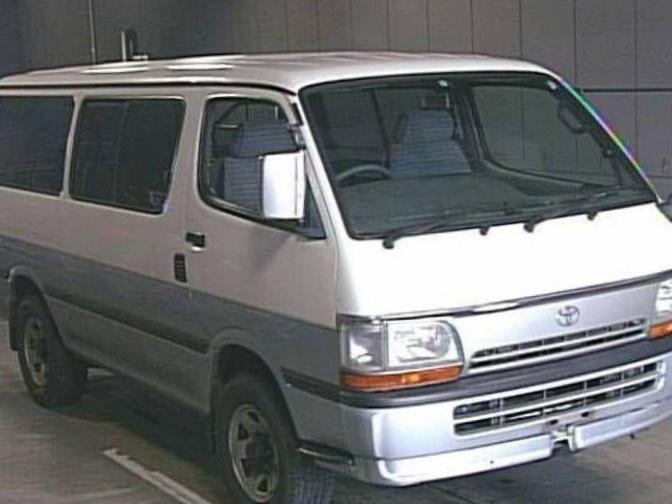van: (0, 23, 672, 504)
